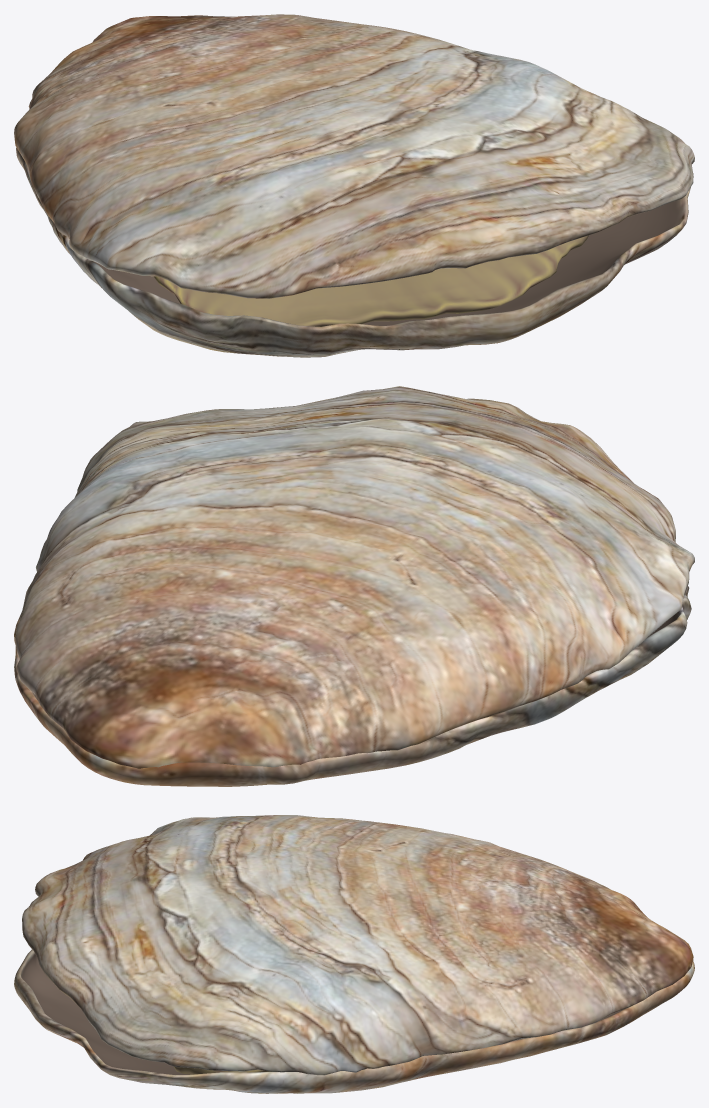
Rendered from shell.glb.
3 views of the same model, one above another, from view 1: azimuth 30°, elevation 25°; view 2: azimuth 150°, elevation 25°; view 3: azimuth 270°, elevation 25° (orthographic). The views are drawn at different scales.
Parts seen in each view (by area): view 1: node_id425; view 2: node_id425; view 3: node_id425.
Boxes of the visible parts, x1=… form: node_id425: x1=14, y1=14, x2=694, y2=357; node_id425: x1=14, y1=386, x2=694, y2=786; node_id425: x1=14, y1=815, x2=694, y2=1093.
Size of the model in its own units: 0.1438 by 0.0454 by 0.1715.
Materials: 1 (1 with a texture image).
